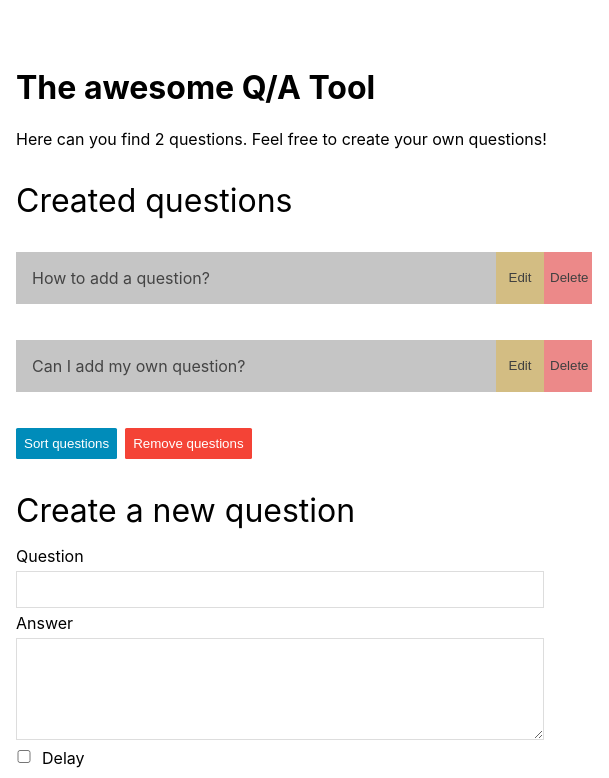
<QA /> › adds new new question
Type "New Question?" into the field labelled "Question". click: (280, 589)
box: [16,571,544,608]
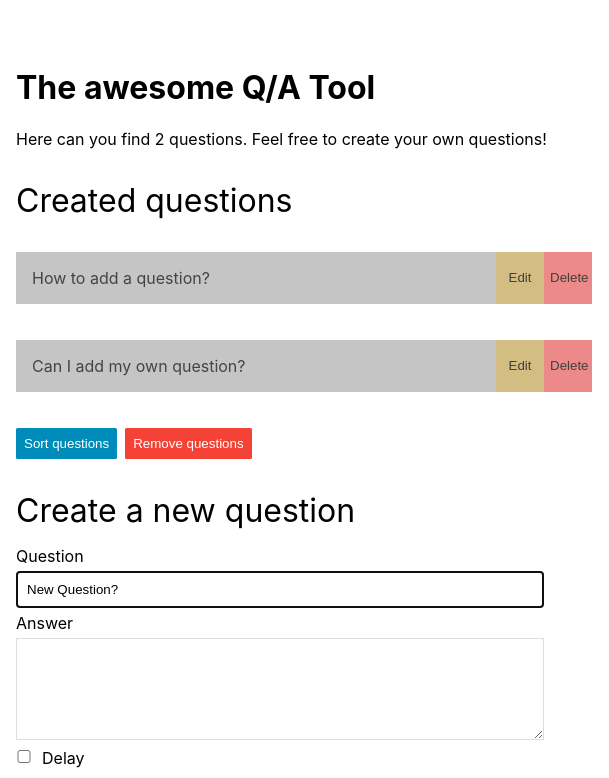
Type "New Answer" into the text box labelled "Answer". click: (280, 689)
box: [16,638,544,740]
(page scrolled)
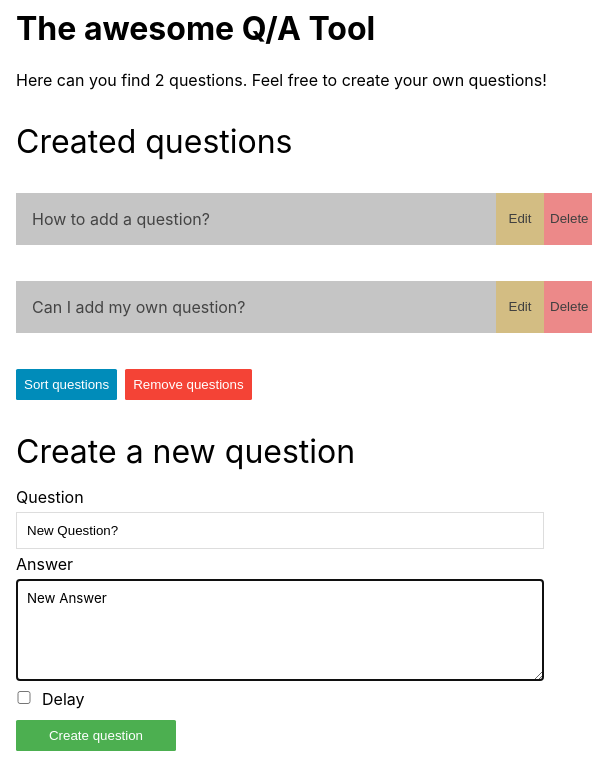
Click the button "Create question". click: (96, 735)
box: [16,720,176,751]
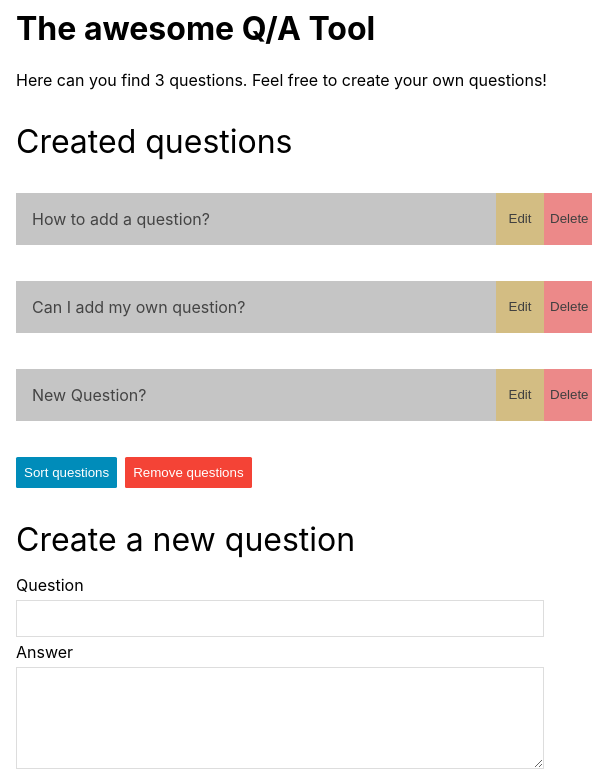
Now the text "New Question?" is shown, box [16,369,496,421]
